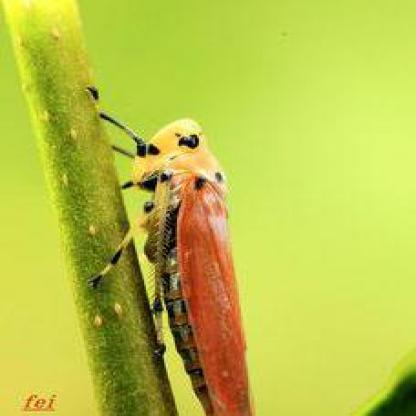grasshopper: (85, 94, 268, 416)
